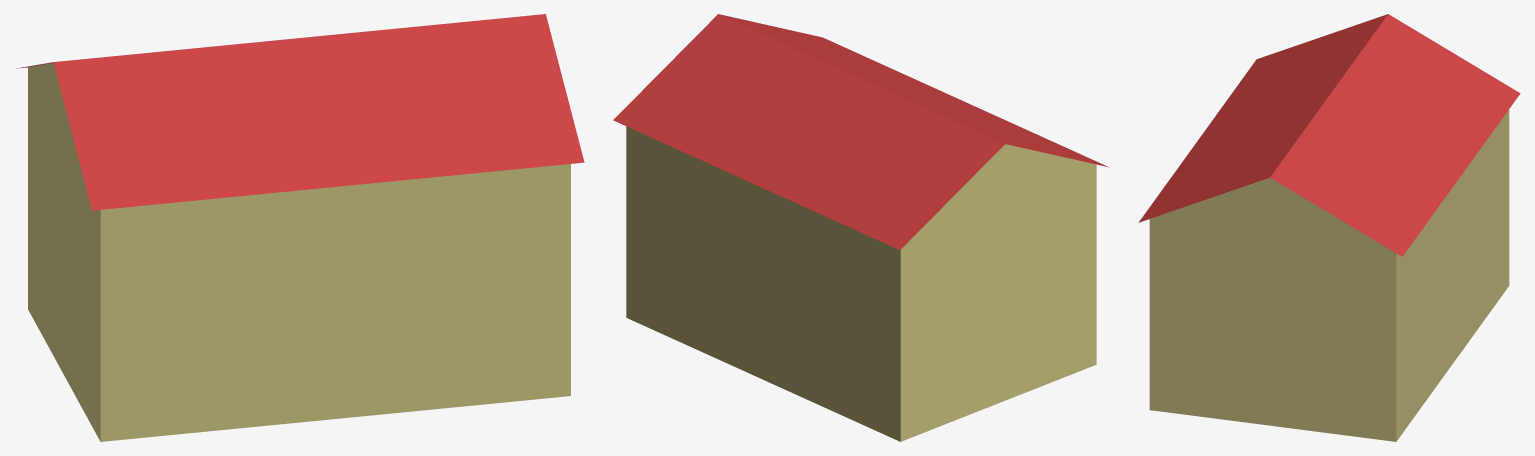
The picture shows the model from 3 angles, left to right: view 1: azimuth 30°, elevation 25°; view 2: azimuth 150°, elevation 25°; view 3: azimuth 270°, elevation 25°; orthographic projection. The views are drawn at different scales.
Visible parts, largest first — view 1: group_5, group_3, group_4; view 2: group_5, group_3, group_4; view 3: group_5, group_3, group_4.
Part boxes in pixels (x1,y1,x2,y2): group_5: (28,63,570,441); group_3: (53,14,584,210); group_4: (16,62,112,209); group_5: (626,126,1096,441); group_3: (615,14,1106,249); group_4: (613,14,1108,189); group_5: (1149,109,1509,441); group_3: (1138,14,1520,254); group_4: (1257,14,1463,256).
Bounding box in the file's own units: 25.76 × 21.05 × 15.32.
